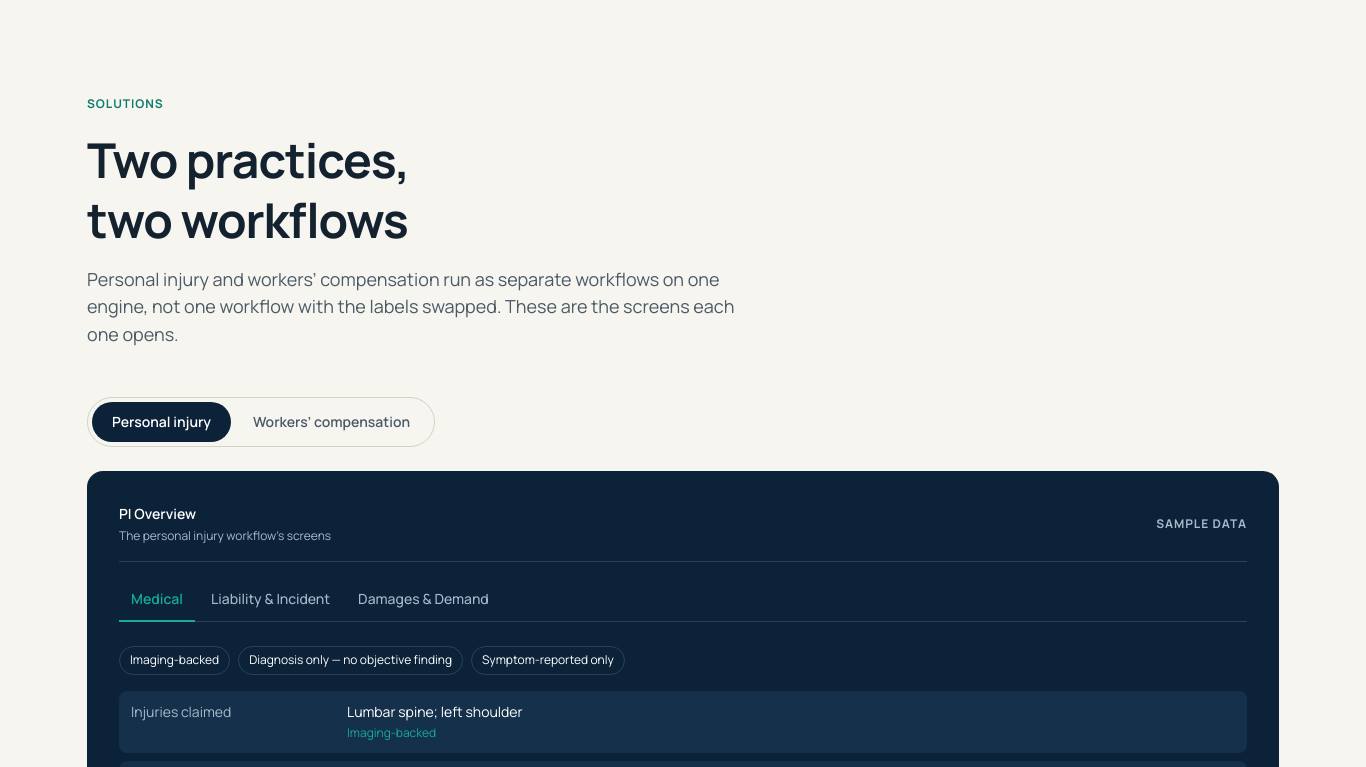
Solutions › swaps to the WC Intelligence tabs and the figure
Click the tab "Workers’ compensation" at [332, 422], box [233,402,430,442]
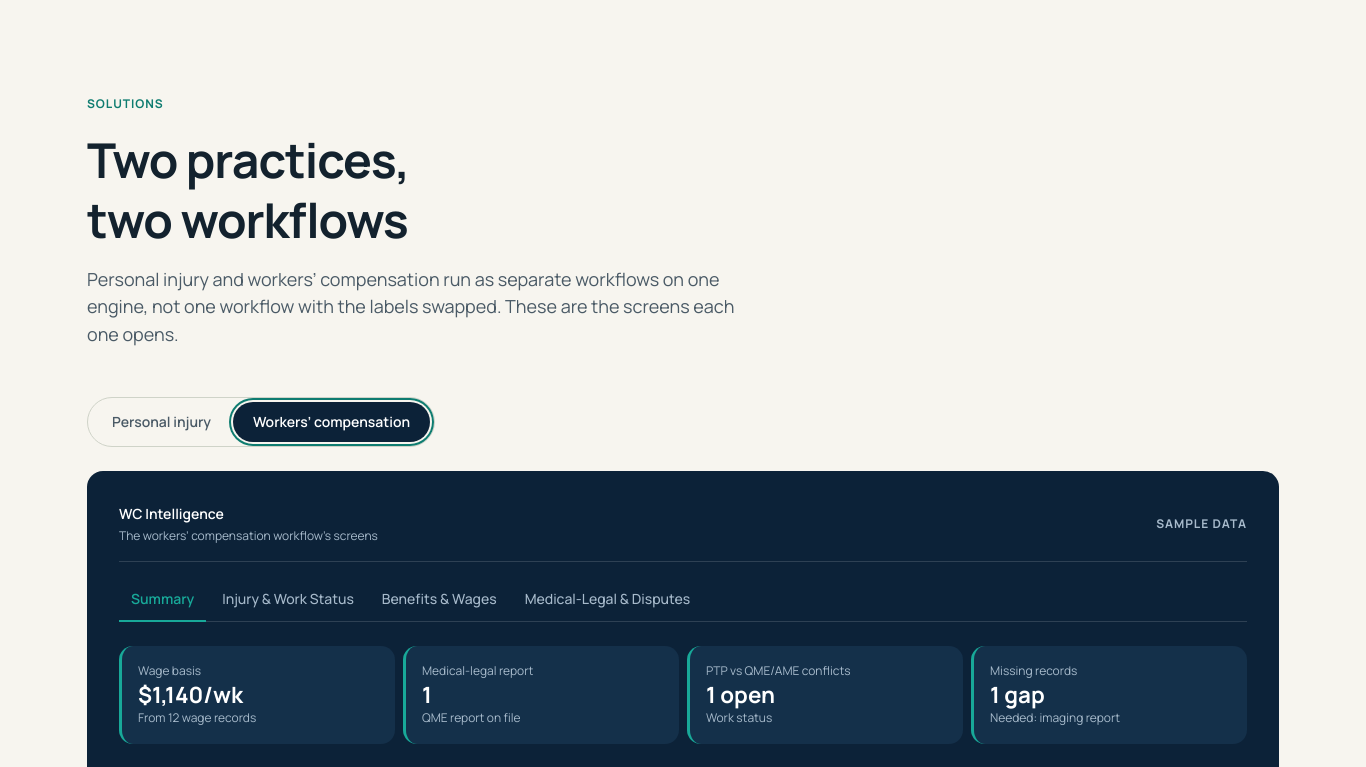
Expected: the tabs read "Summary", "Injury & Work Status", "Benefits & Wages", "Medical-Legal & Disputes", in this order
Expected: the text "Wage basis" is shown, [138,662,201,679]
Expected: the text "Medical-legal report" is shown, [422,662,533,679]
Click the tab "Injury & Work Status" at [288, 600], box [210,578,366,622]
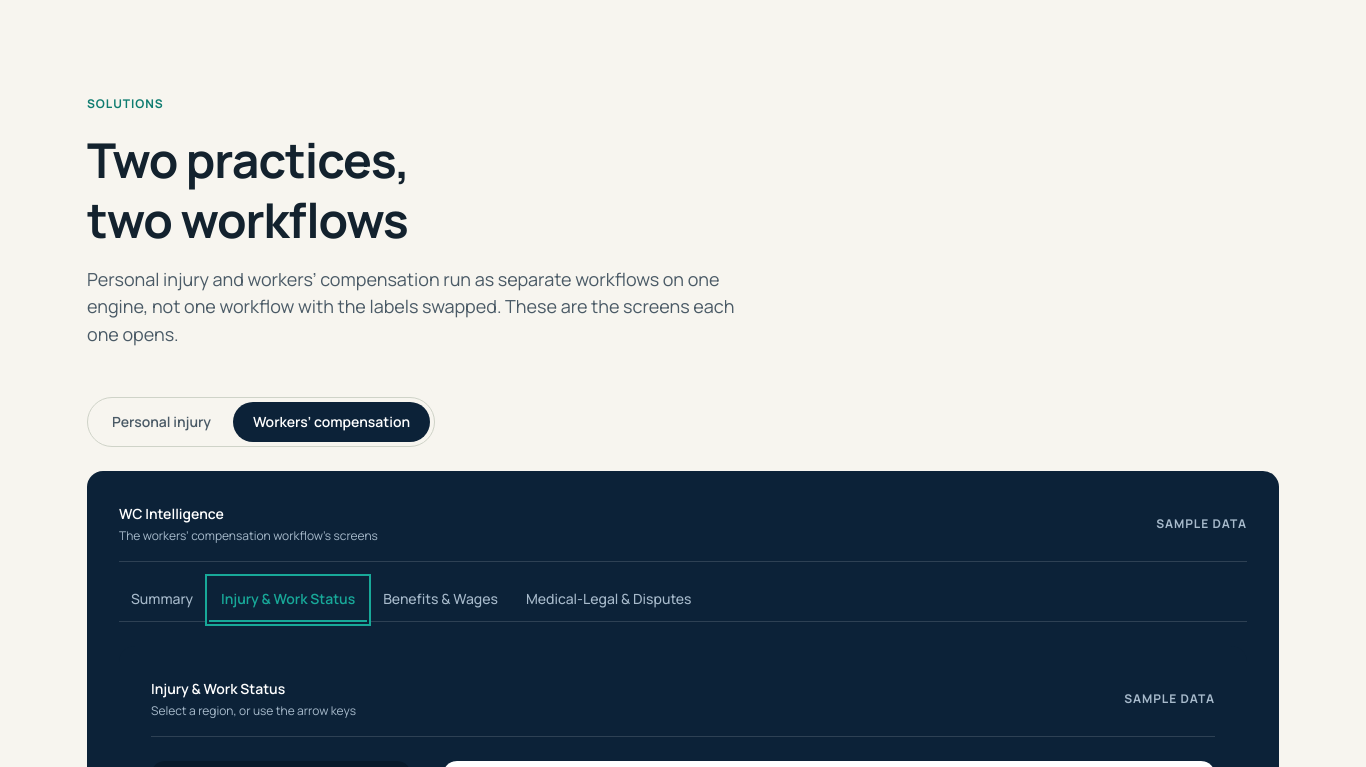
Click the tab "Medical-Legal & Disputes" at [609, 600], box [514,578,704,622]
(page scrolled)
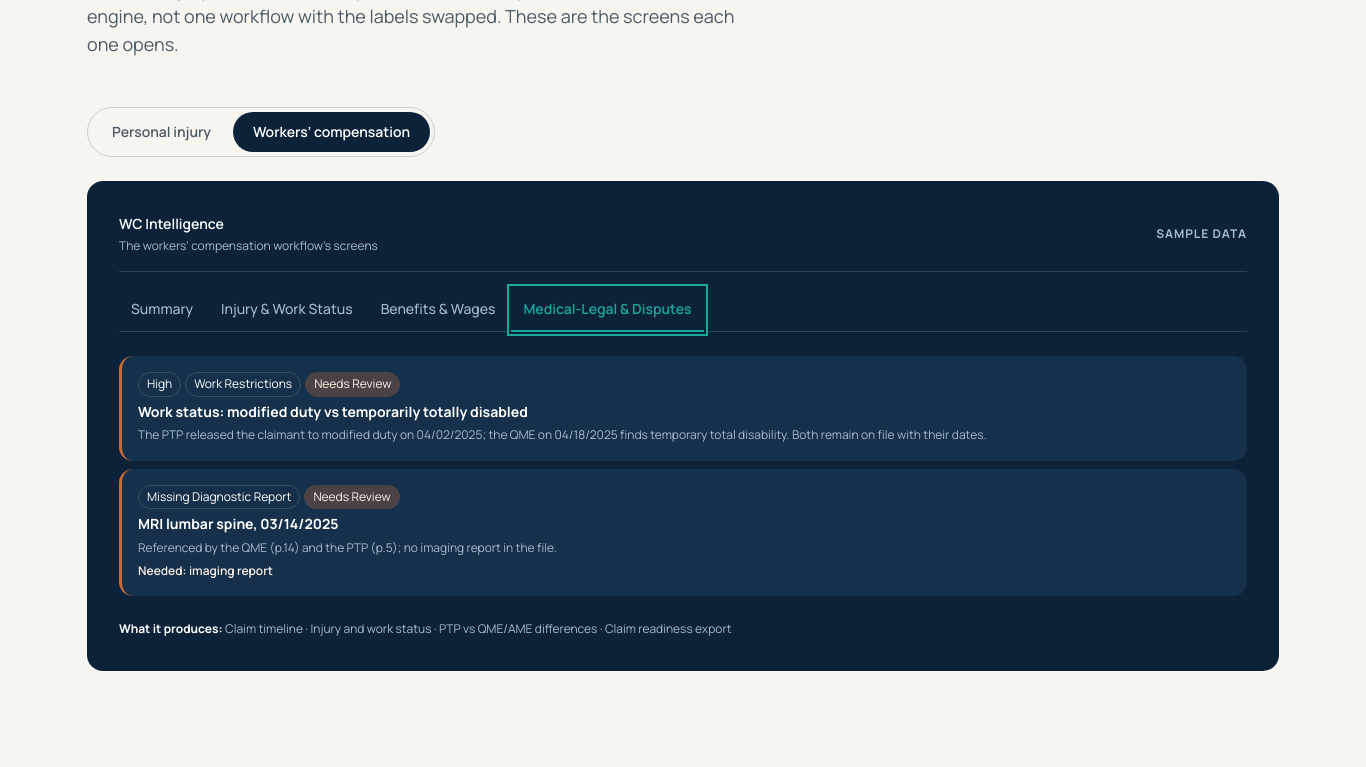
Expected: the text "Work status: modified duty vs temporarily totally disabled" is shown, [138,402,528,420]
Expected: the text "Needed: imaging report" is shown, [138,562,273,579]
